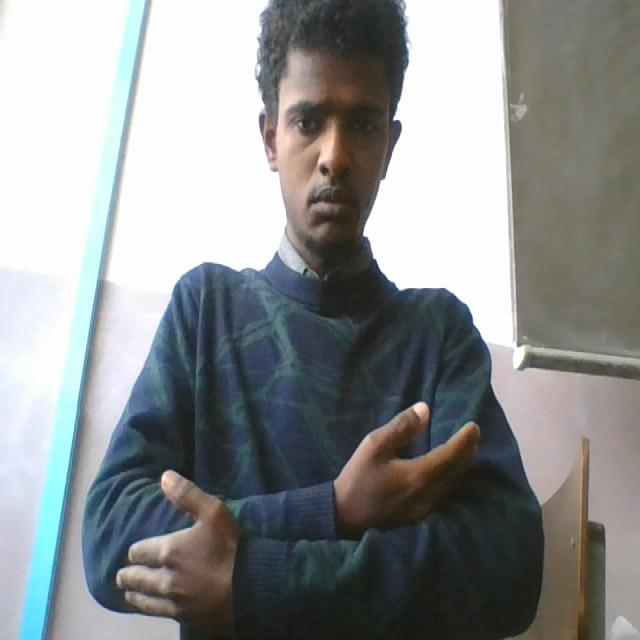lij: (114, 397, 485, 640)
